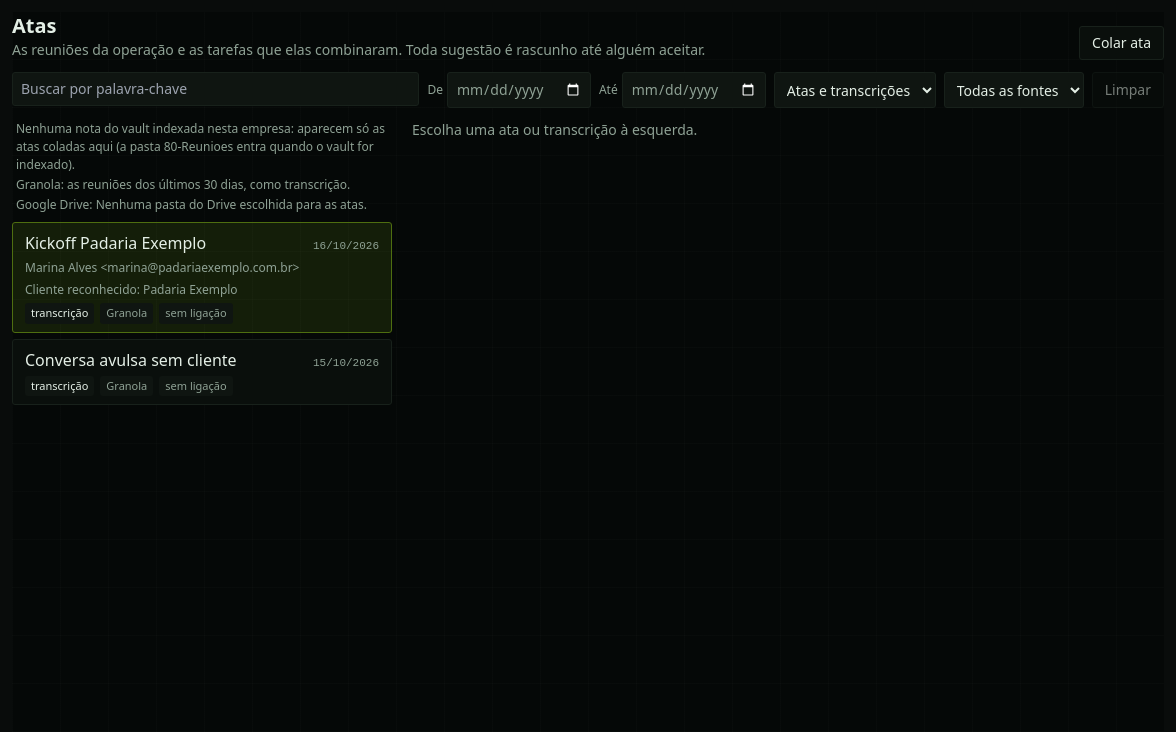
Scenario: Atas › Reuniões do Granola › lista as reuniões com o cliente reconhecido; Gerar ata puxa a transcrição e abre a ata
The width and height of the screenshot is (1176, 732).
Aberta, a transcrição aparece inteira à direita, com "Gerar ata".
Click the button that starts with "Kickoff Padaria Exemplo".
click(202, 277)  # box 12,222 -> 392,332
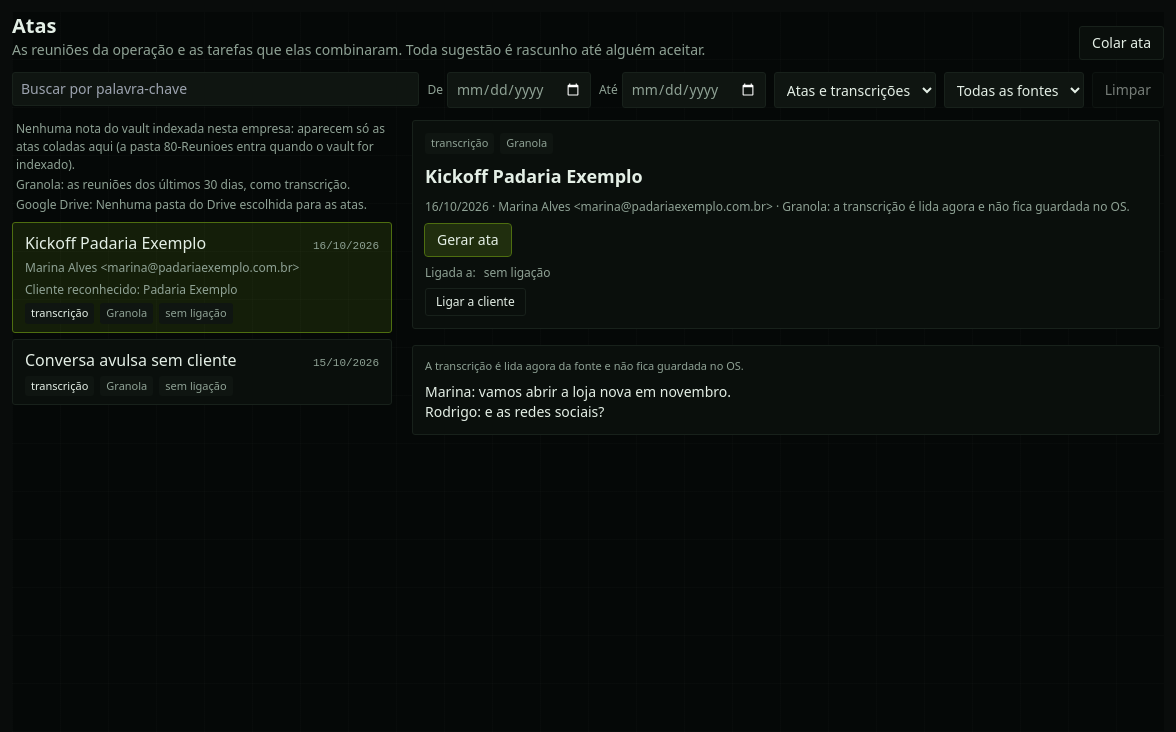
Now the element with test id "transcricao-texto" shows "vamos abrir a loja nova em novembro", box 425,382 -> 731,421
Click the button "Gerar ata".
click(468, 240)  # box 425,224 -> 511,256
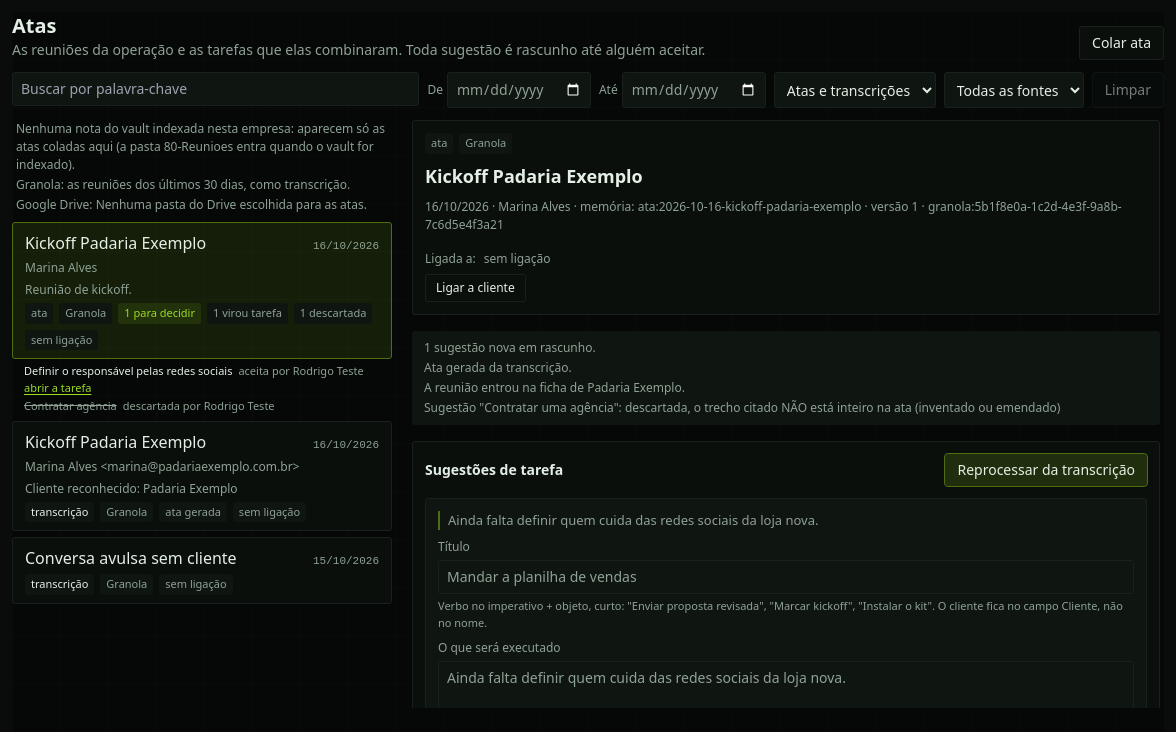
Now the list named "O que a leitura disse" shows "1 sugestão nova em rascunho.", box 424,338 -> 596,356
Now the list named "O que a leitura disse" shows "Ata gerada da transcrição.", box 424,358 -> 572,376
Now the list named "O que a leitura disse" shows "A reunião entrou na ficha de Padaria Exemplo.", box 424,378 -> 685,396
